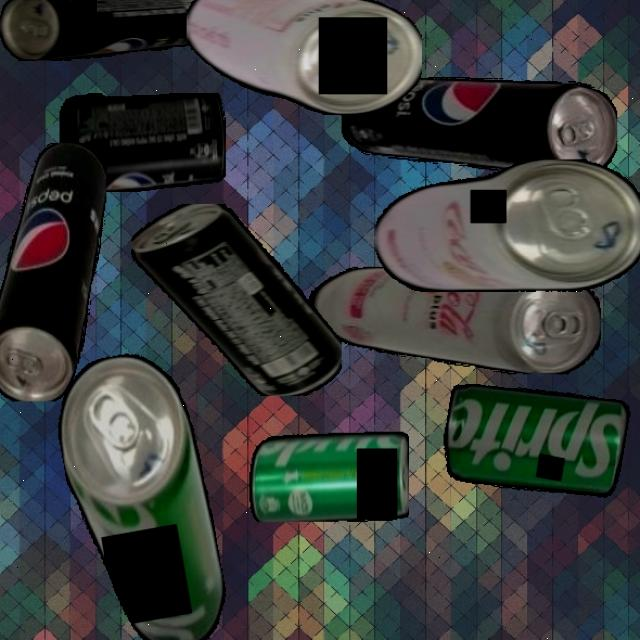debris: (48, 345, 233, 640), (130, 204, 342, 396), (374, 159, 640, 292), (302, 267, 601, 374), (0, 141, 106, 401), (341, 77, 617, 176), (185, 0, 422, 115), (437, 372, 631, 508), (58, 92, 225, 192), (248, 431, 409, 522), (0, 0, 216, 61)
